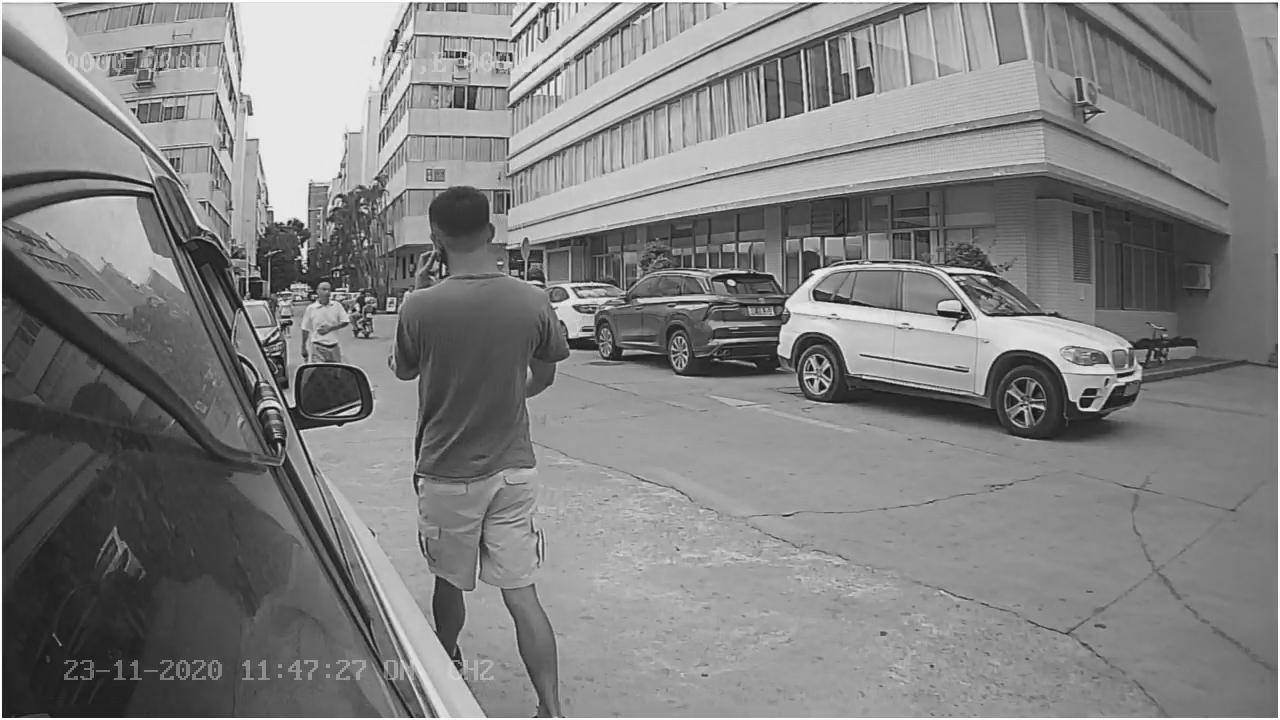person: (383, 154, 578, 433)
